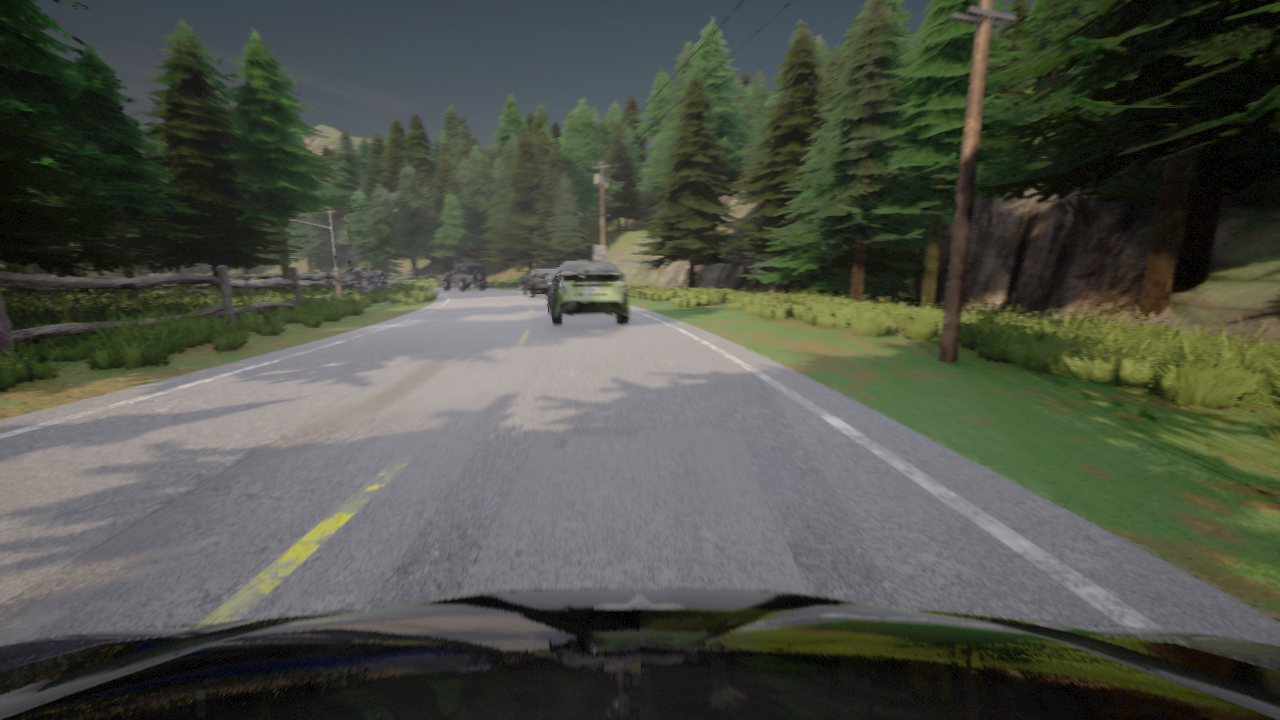cyclist: (0, 588, 1279, 719), (546, 260, 629, 325), (521, 267, 558, 298), (442, 264, 487, 289), (330, 268, 387, 285)
